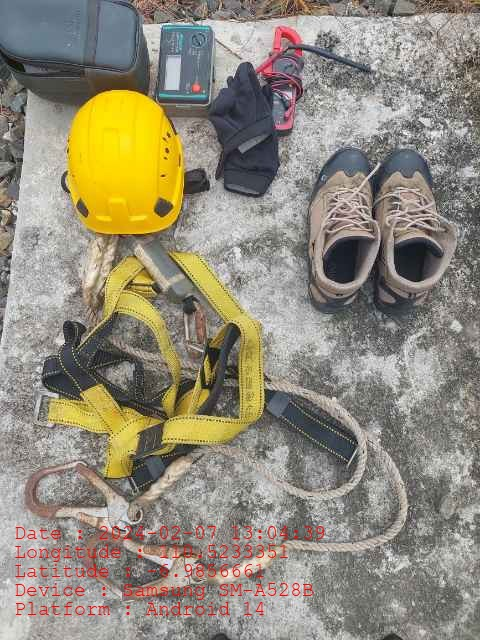HELM: (66, 88, 186, 235)
SEPATU: (306, 148, 458, 314)
